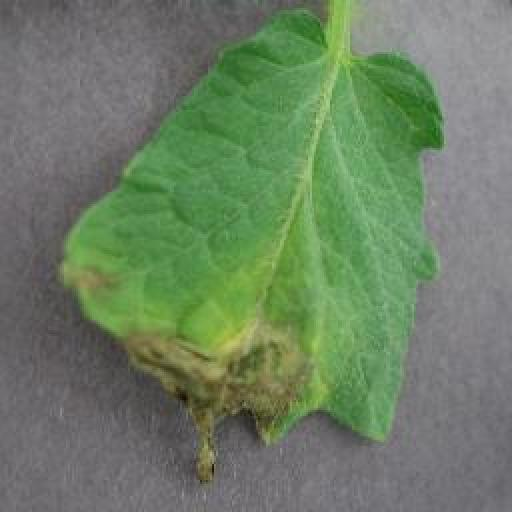Late Blight: (51, 8, 445, 477)
